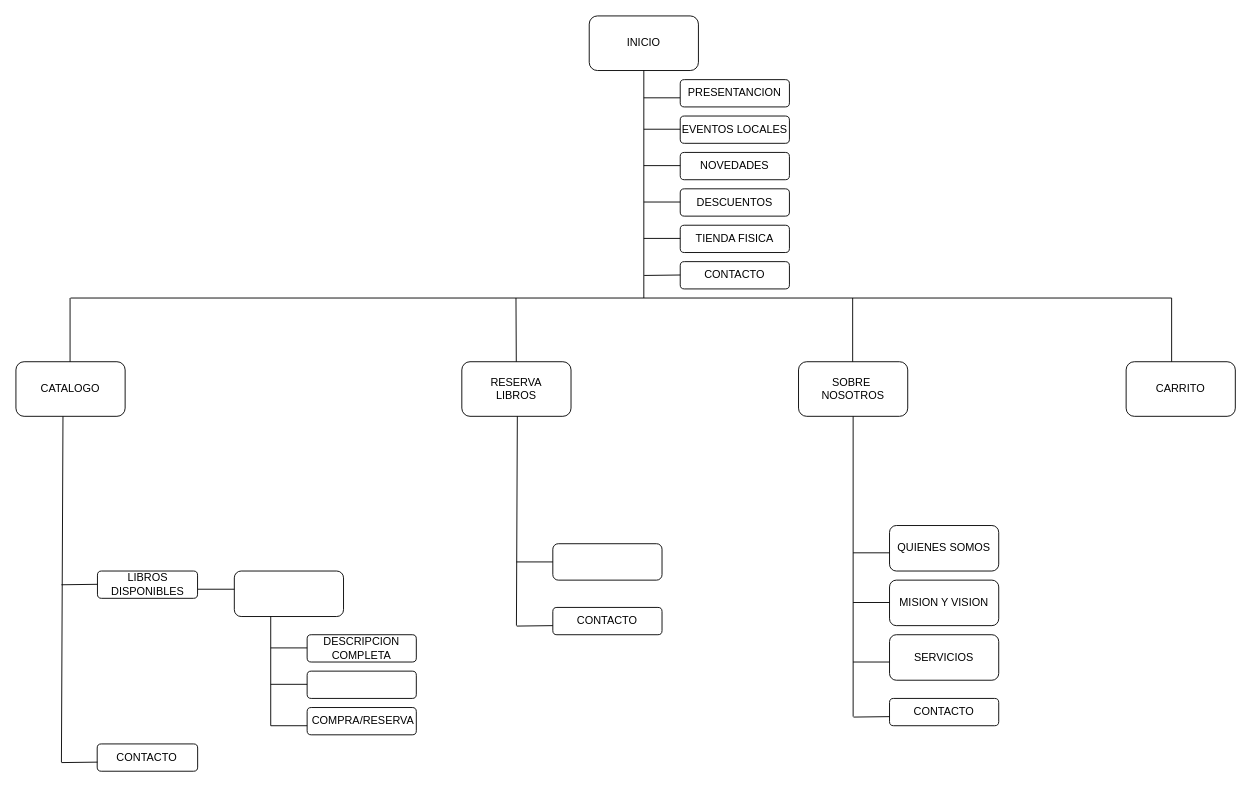
This 1251x787 diagram has some shape labels left out. Each missing label, with the centre of its shape:
"FORMULARIO DE RESERVA" belongs at [607,561].
"INFORMACION DEL AUTOR" belongs at [361,684].
"PAGINA DE DETALLE" belongs at [288,593].
